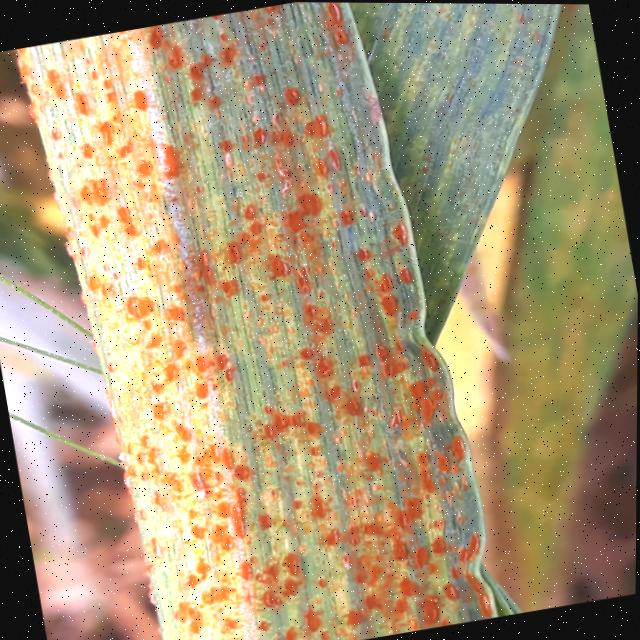orang_rust: (12, 0, 511, 640), (357, 2, 640, 377)
